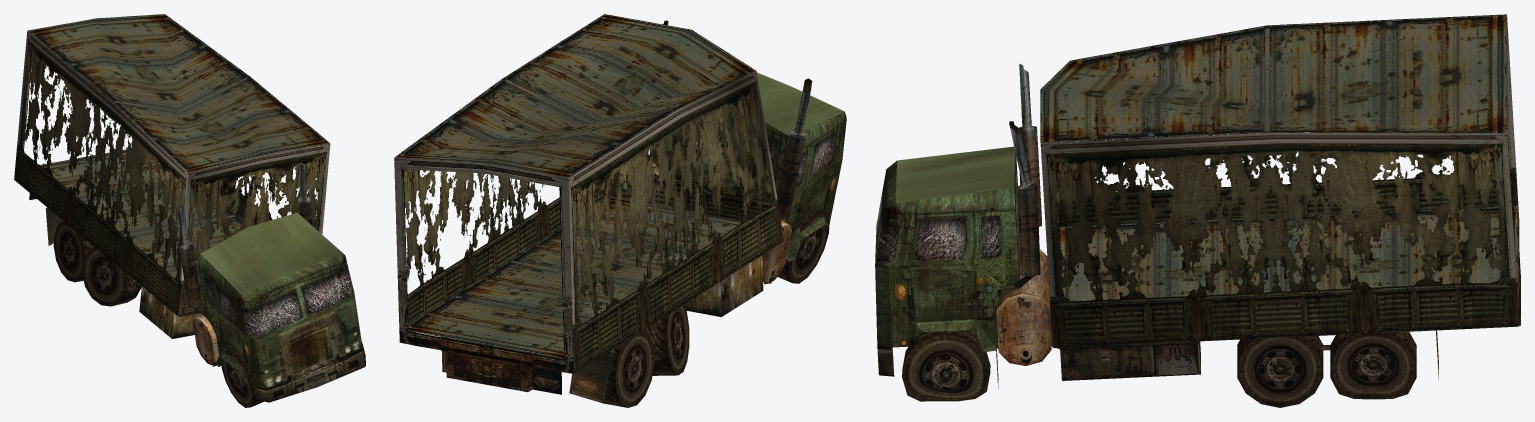
File: Nctruc1X.glb
3 views of the same model, side by side, from view 1: azimuth 30°, elevation 25°; view 2: azimuth 150°, elevation 25°; view 3: azimuth 270°, elevation 25° (orthographic). The views are drawn at different scales.
Parts seen in each view (by area): view 1: _Nctruc1X; view 2: _Nctruc1X; view 3: _Nctruc1X.
Boxes of the visible parts, left/top/right/bottom form: _Nctruc1X: left=14, top=14, right=365, bottom=407; _Nctruc1X: left=394, top=14, right=846, bottom=407; _Nctruc1X: left=875, top=14, right=1520, bottom=407.
Bounding box in the file's own units: 3.39 × 4.71 × 8.47.
Materials: 3 (3 with a texture image).
